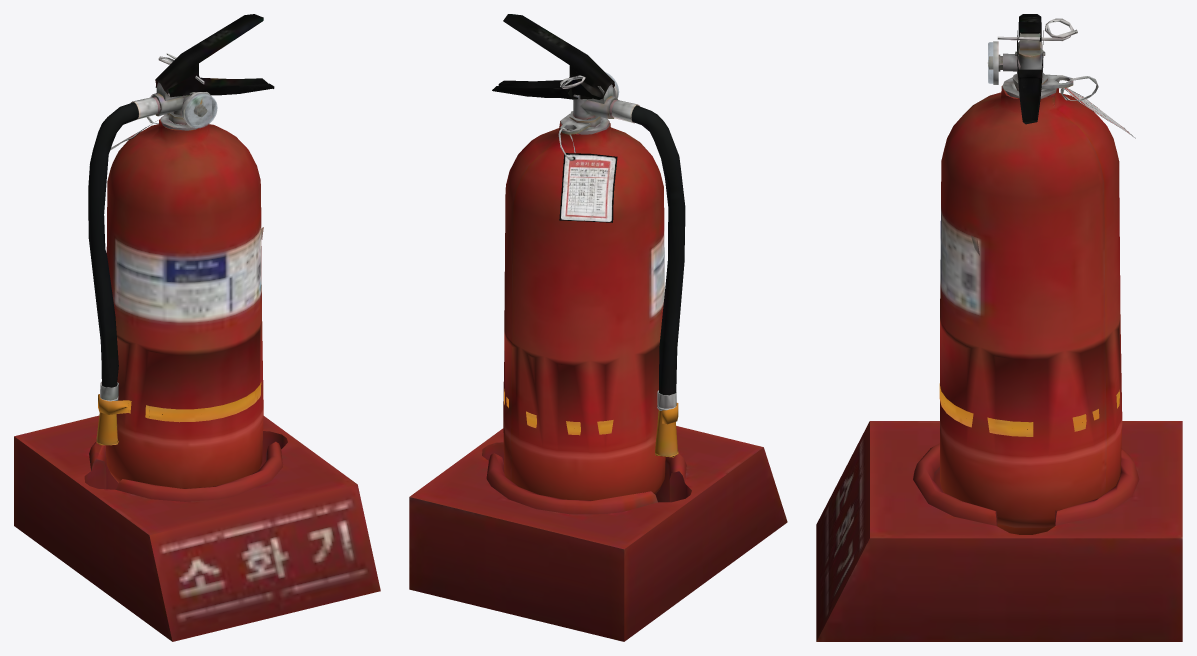
File: korean_fire_extinguisher_01.glb
The picture shows the model from 3 angles, left to right: view 1: azimuth 30°, elevation 25°; view 2: azimuth 150°, elevation 25°; view 3: azimuth 270°, elevation 25°; orthographic projection. The views are drawn at different scales.
Parts seen in each view (by area): view 1: korean_fire_extinguisher_01; view 2: korean_fire_extinguisher_01; view 3: korean_fire_extinguisher_01.
Part boxes in pixels (x1,y1,x2,y2): korean_fire_extinguisher_01: (14,14,380,641); korean_fire_extinguisher_01: (409,14,787,641); korean_fire_extinguisher_01: (816,14,1182,641).
Size of the model in its own units: 0.2789 by 0.658 by 0.3675.
Materials: 3 (3 with a texture image).
